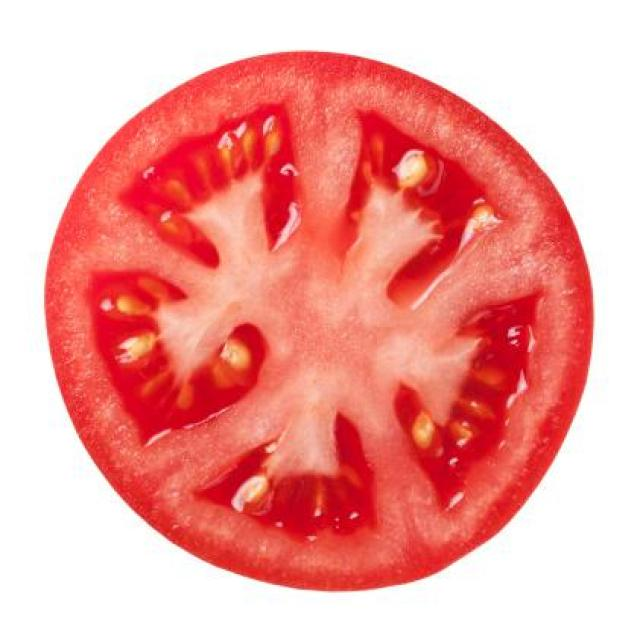Tomato: (39, 54, 596, 593)
